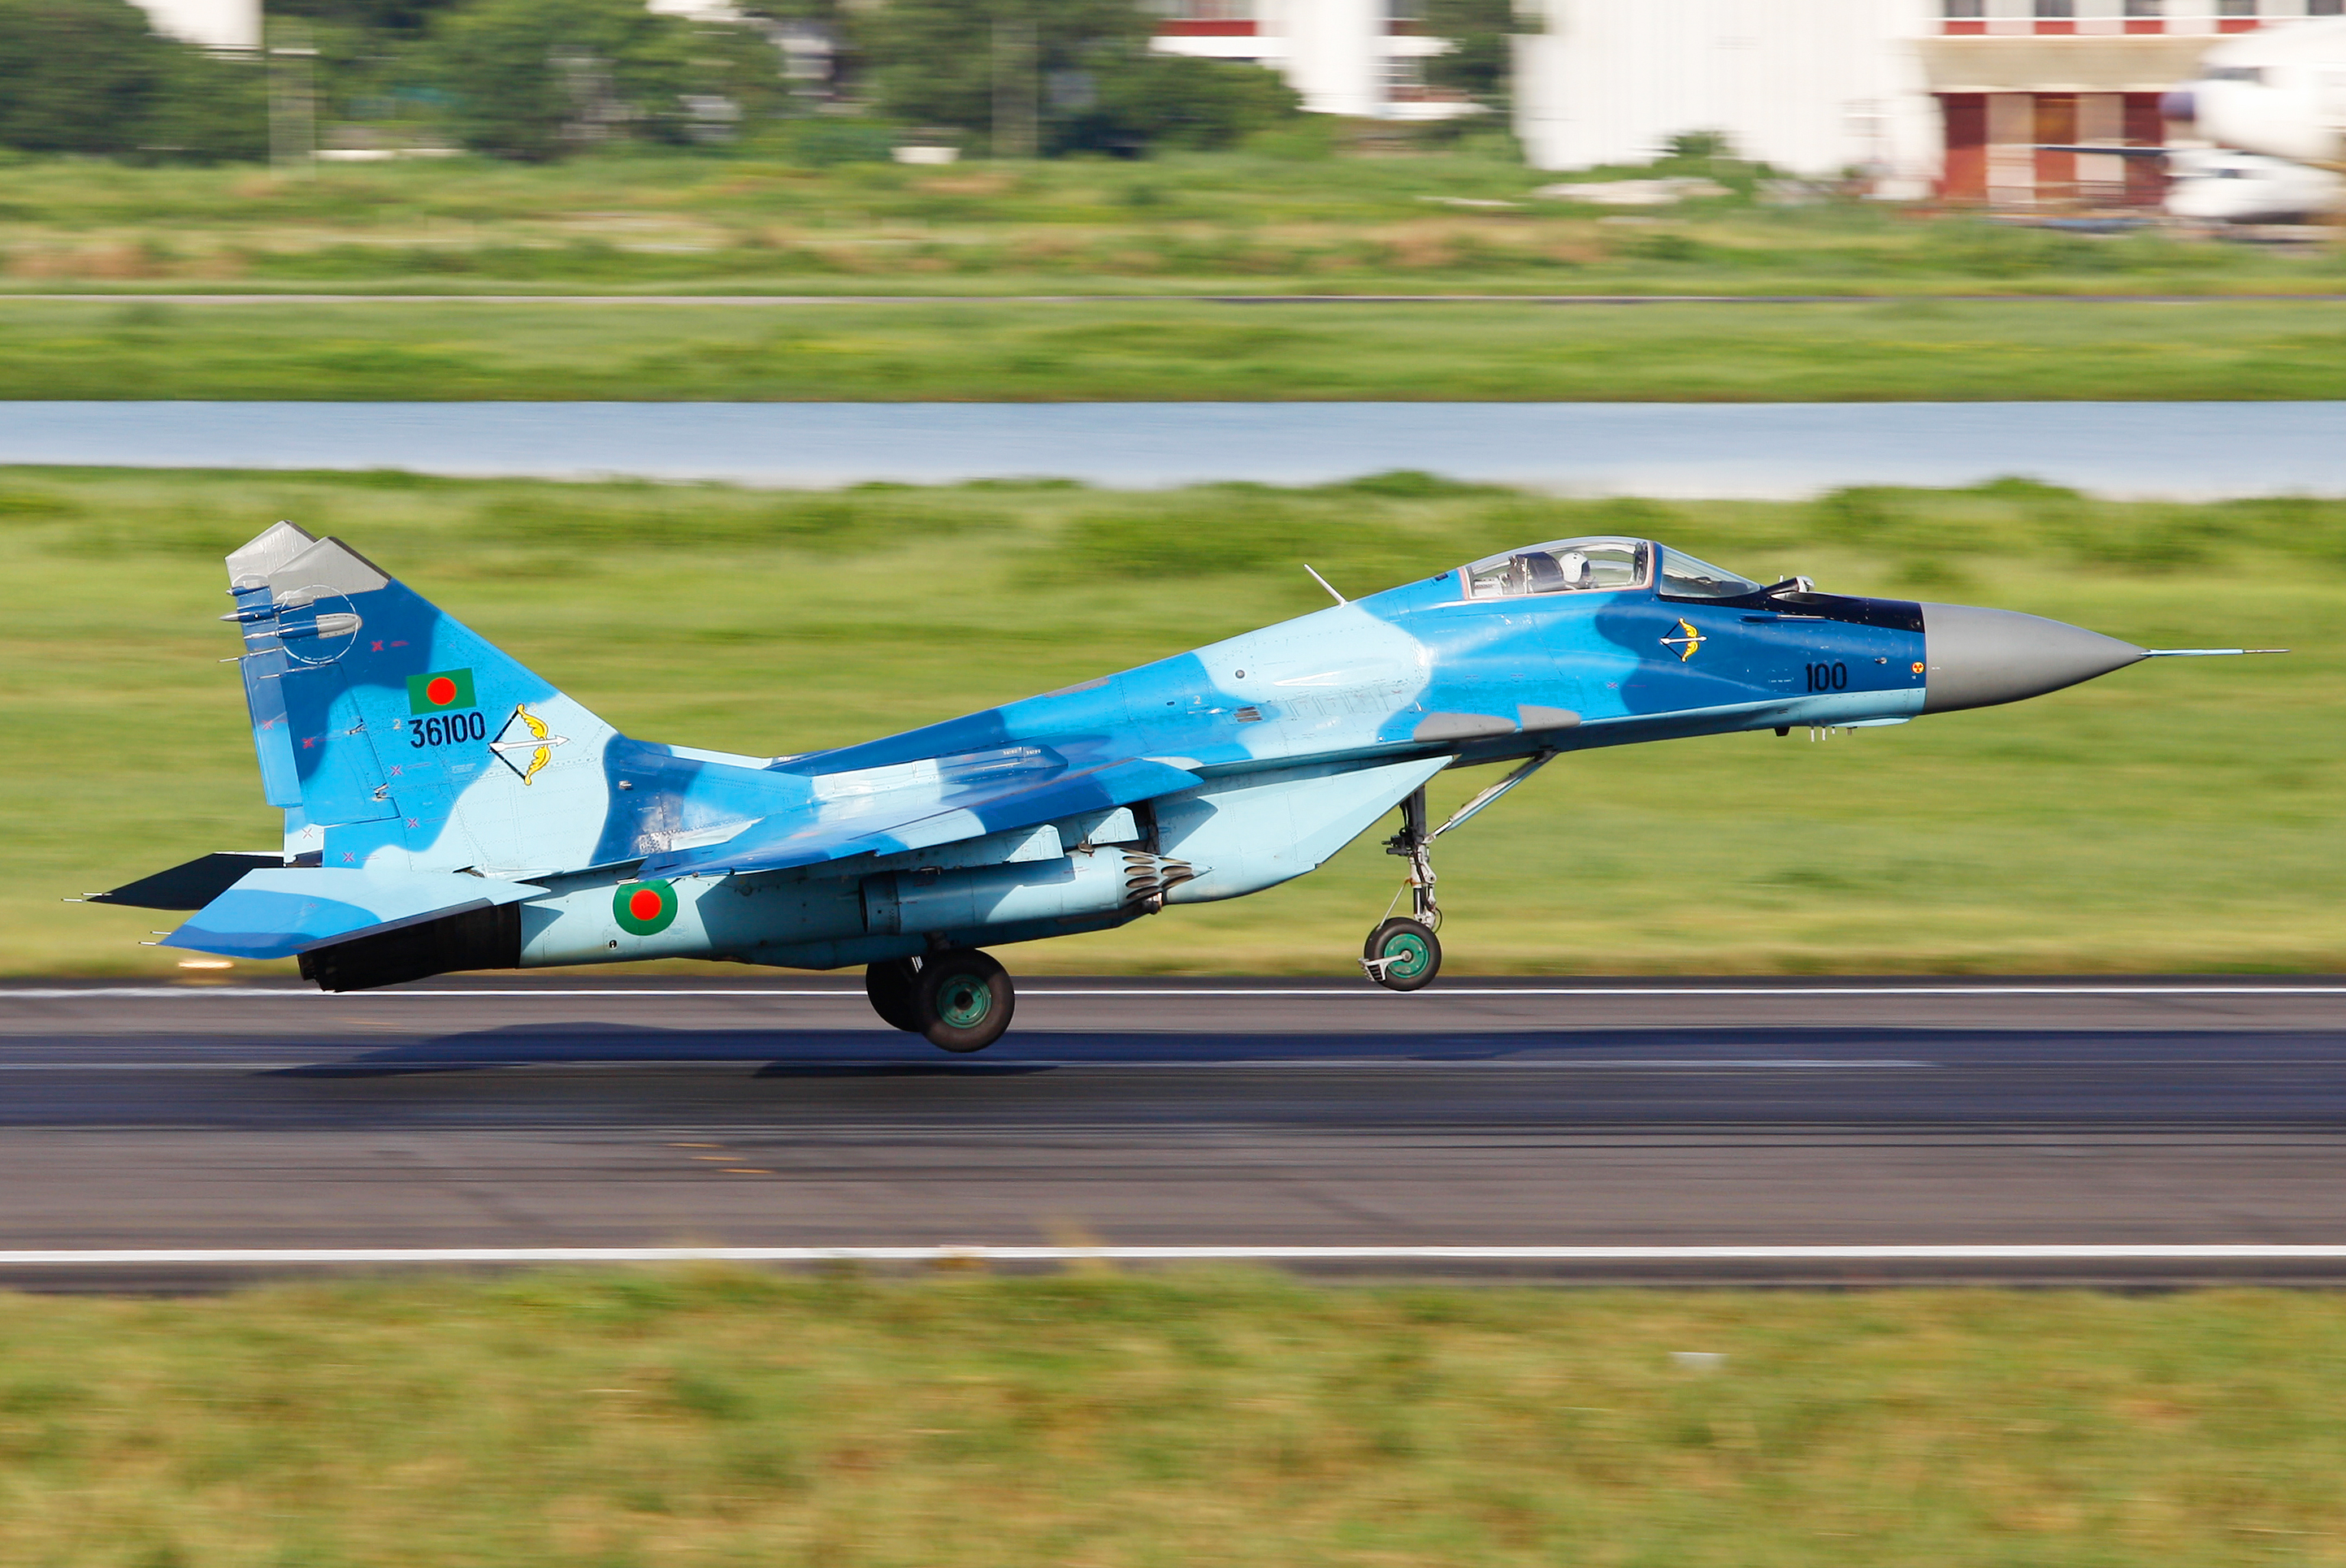Bangladesh: (607, 875, 686, 936), (399, 670, 493, 712)
Mig-29: (98, 371, 2210, 1099)
